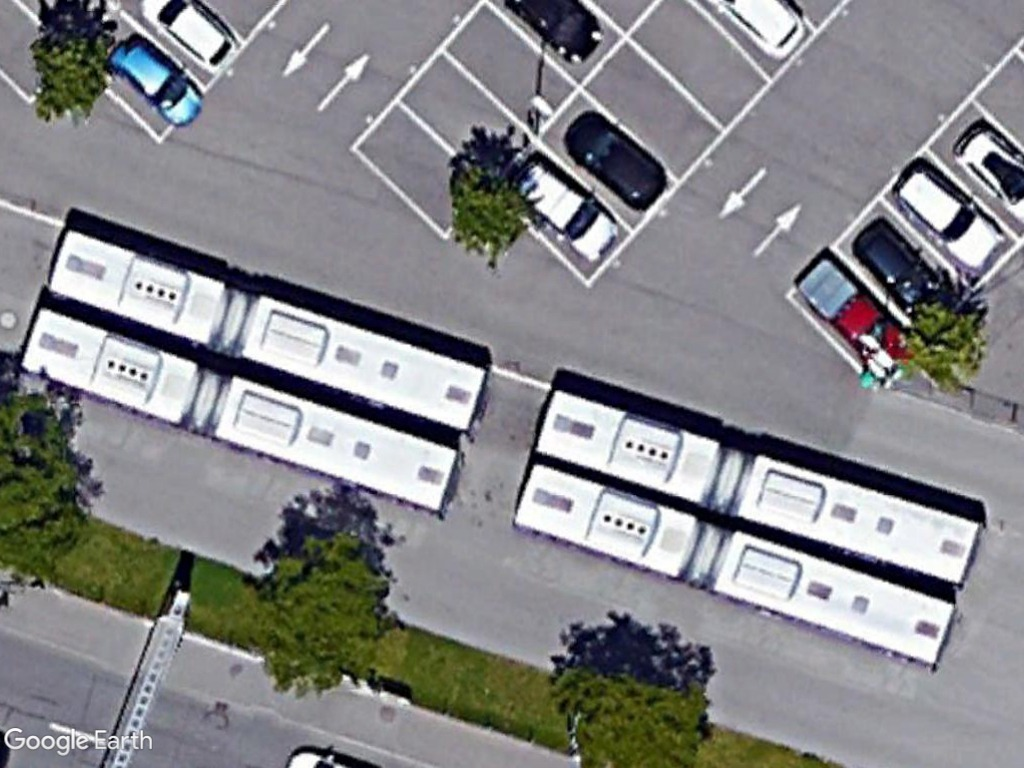bus: (707, 522, 956, 677), (204, 374, 476, 512), (231, 287, 501, 424), (730, 450, 989, 583), (509, 459, 716, 593), (1, 294, 205, 426), (524, 376, 727, 506), (41, 225, 244, 347)
car: (889, 153, 1009, 273), (557, 105, 672, 213), (102, 31, 204, 130)
